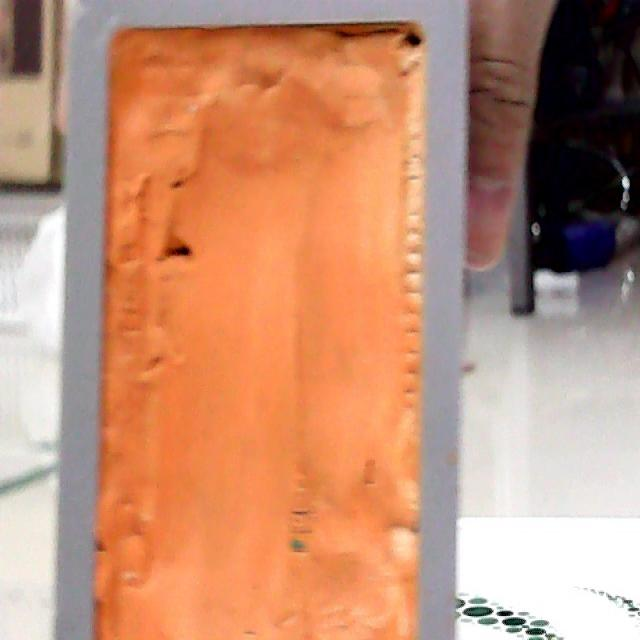block: (52, 1, 466, 634)
